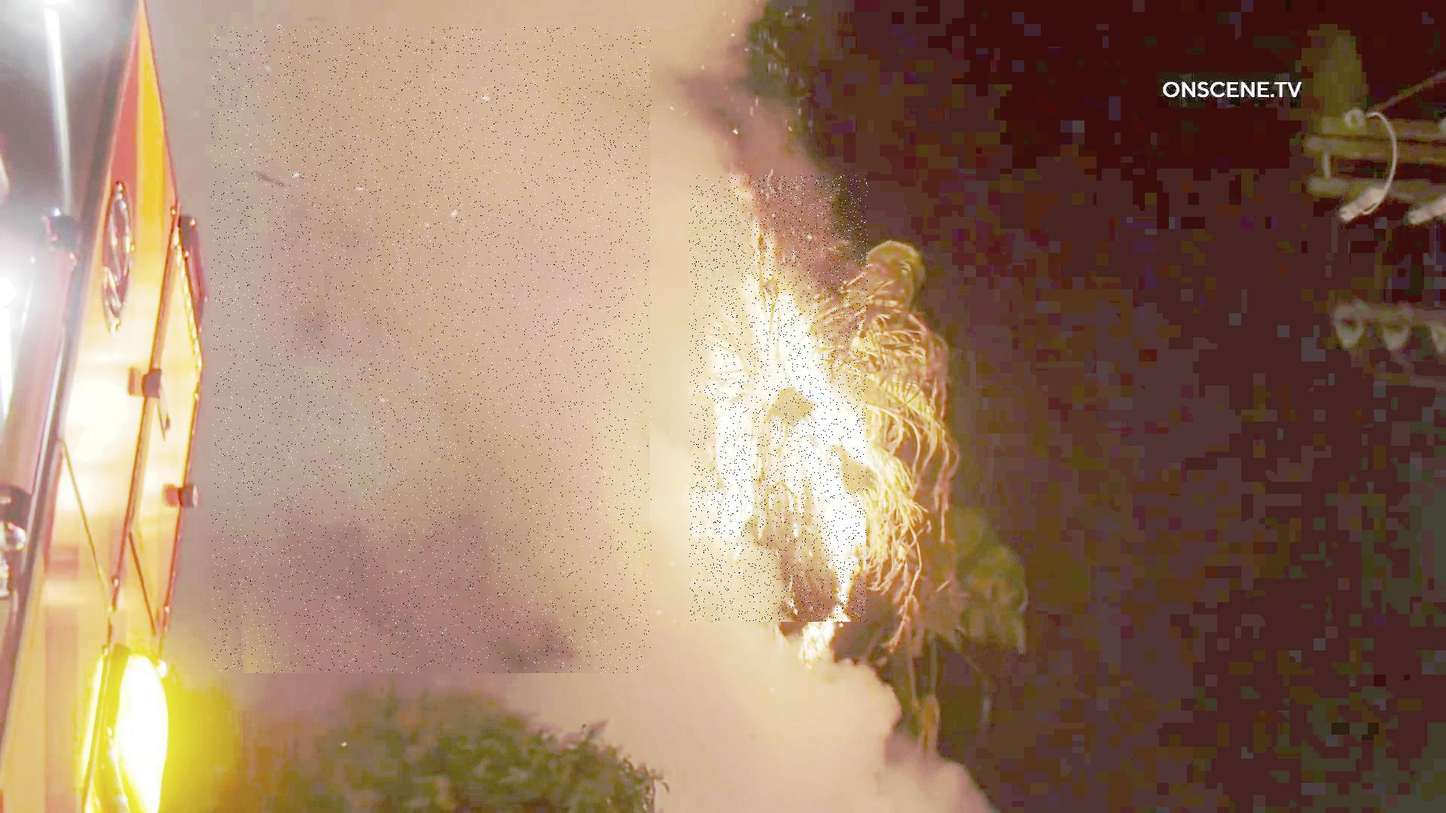fire: (212, 27, 652, 673), (690, 176, 868, 622)
